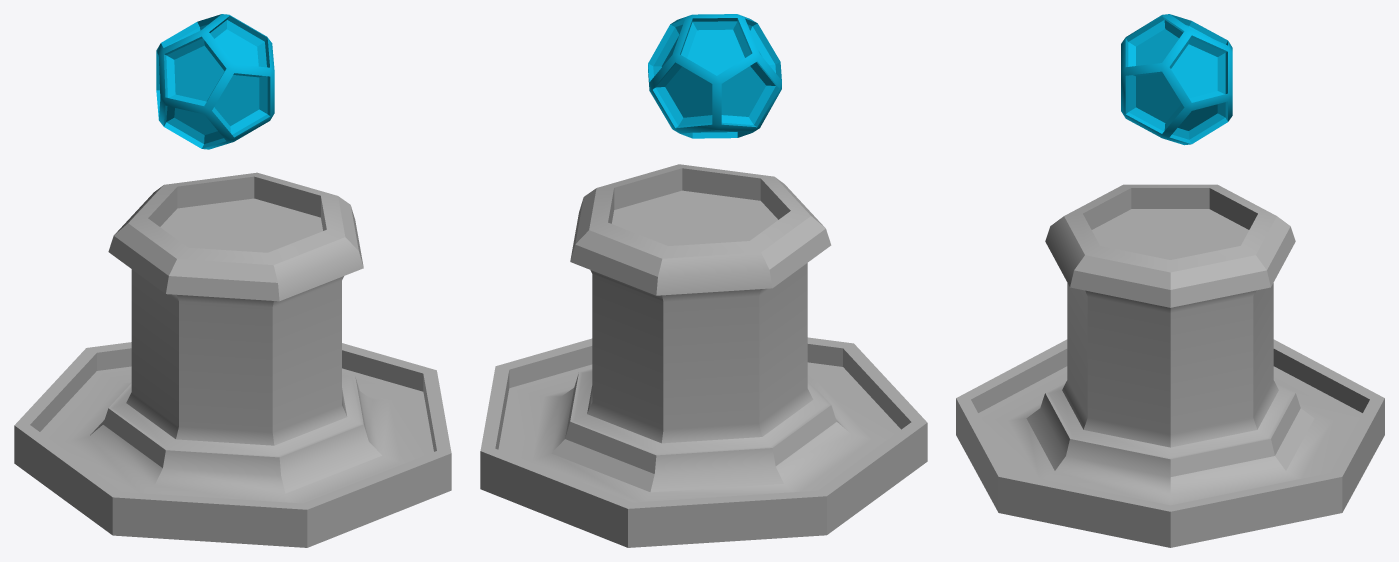
3 views of the same model, side by side, from view 1: azimuth 30°, elevation 25°; view 2: azimuth 150°, elevation 25°; view 3: azimuth 270°, elevation 25° (orthographic). The views are drawn at different scales.
Parts seen in each view (by area): view 1: Towerbase, crystal; view 2: Towerbase, crystal; view 3: Towerbase, crystal.
Part boxes in pixels (box(x1,y1,x2,y2)): Towerbase: box(14, 172, 451, 547); crystal: box(156, 14, 274, 149); Towerbase: box(480, 164, 927, 547); crystal: box(648, 14, 781, 138); Towerbase: box(956, 184, 1384, 547); crystal: box(1121, 14, 1232, 145).
Size of the model in its own units: 1.14 by 1.28 by 1.17.
